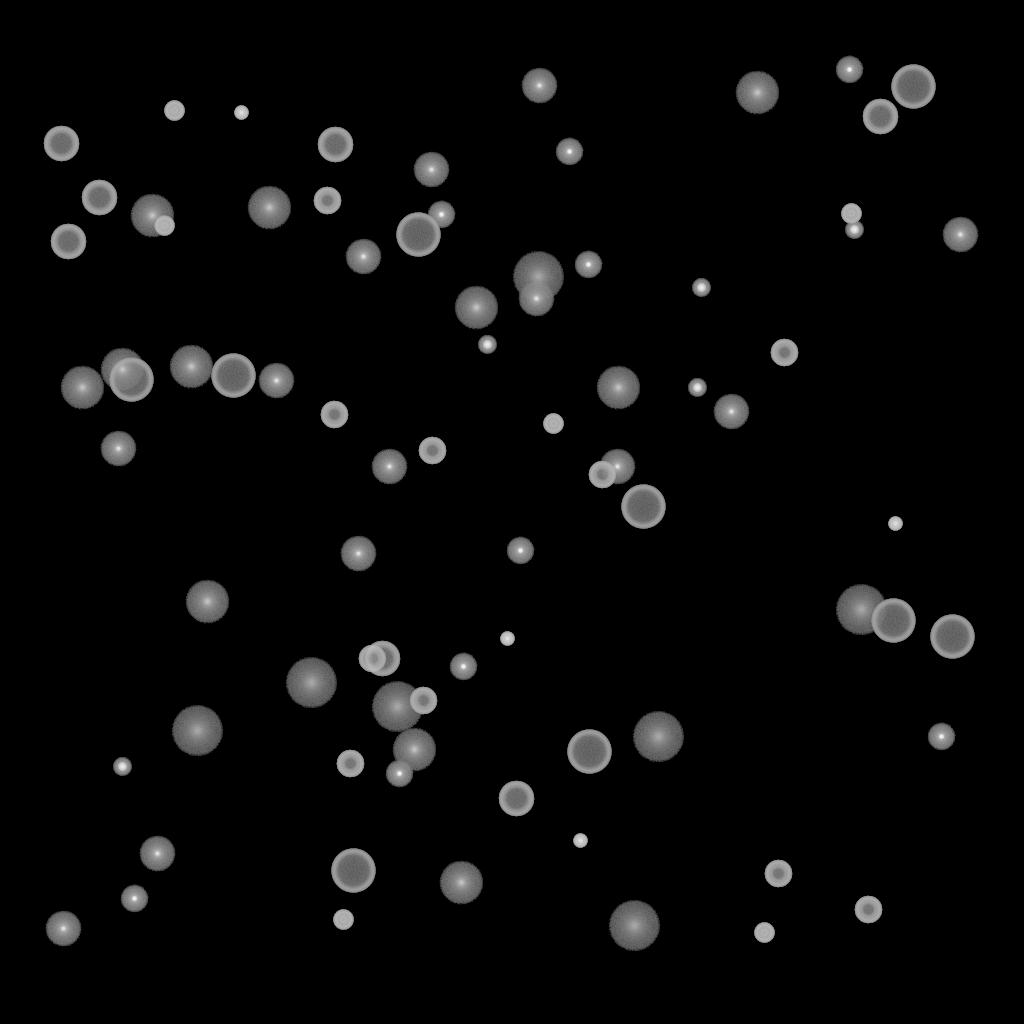depth:-10: (449, 653, 477, 681), (555, 138, 583, 166), (120, 885, 148, 913), (427, 201, 455, 229), (835, 56, 863, 84), (927, 723, 955, 751), (506, 537, 534, 565), (385, 760, 413, 788), (574, 251, 602, 279)
depth:-20: (113, 758, 131, 776), (478, 336, 496, 354), (845, 221, 863, 239), (692, 279, 710, 297), (688, 379, 706, 397)
depth:-30: (888, 517, 902, 531), (500, 632, 514, 646), (573, 834, 587, 848), (234, 106, 248, 120)
depth:-40: (333, 910, 353, 930), (543, 414, 563, 434), (754, 923, 774, 943), (164, 101, 184, 121), (154, 216, 174, 236), (841, 204, 861, 224)
depth:-50: (409, 687, 437, 715), (770, 339, 798, 367), (854, 896, 882, 924), (588, 461, 616, 489), (358, 645, 386, 673), (313, 187, 341, 215), (764, 860, 792, 888), (336, 750, 364, 778), (320, 401, 348, 429), (418, 437, 446, 465)
depth:-60: (43, 126, 79, 162), (50, 224, 86, 260), (862, 99, 898, 135), (81, 180, 117, 216), (498, 781, 534, 817), (364, 641, 400, 677), (317, 127, 353, 163)
depth:-70: (621, 485, 665, 529), (871, 599, 915, 643), (930, 615, 974, 659), (891, 65, 935, 109), (567, 730, 611, 774), (109, 358, 153, 402), (331, 849, 375, 893), (396, 213, 440, 257), (211, 354, 255, 398)
depth:0: (371, 449, 407, 485), (345, 239, 381, 275), (258, 363, 294, 399), (518, 281, 554, 317), (599, 449, 635, 485), (45, 911, 81, 947), (100, 431, 136, 467), (713, 394, 749, 430), (521, 68, 557, 104), (340, 536, 376, 572), (942, 217, 978, 253), (139, 836, 175, 872), (413, 152, 449, 188)
depth:10: (100, 348, 144, 392), (60, 366, 104, 410), (130, 194, 174, 238), (439, 861, 483, 905), (247, 186, 291, 230), (185, 580, 229, 624), (392, 728, 436, 772), (169, 345, 213, 389), (596, 366, 640, 410), (454, 286, 498, 330), (735, 71, 779, 115)
depth:20: (512, 252, 564, 302), (171, 706, 223, 756), (632, 712, 684, 762), (835, 585, 887, 635), (371, 682, 423, 732), (608, 901, 660, 951), (285, 658, 337, 708)
